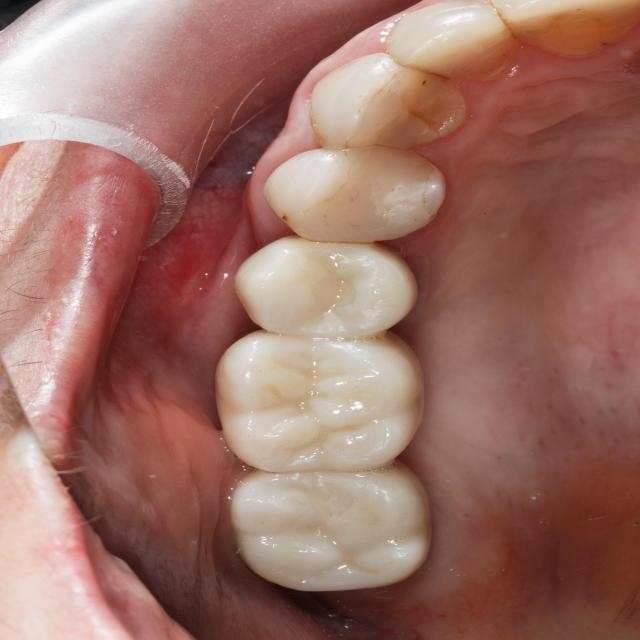Caries: (281, 213, 289, 223), (422, 81, 426, 85)
Tooth: (214, 330, 426, 473), (231, 460, 432, 593), (234, 235, 419, 339), (262, 144, 446, 242), (309, 52, 466, 150), (386, 0, 521, 81), (490, 0, 640, 59)
